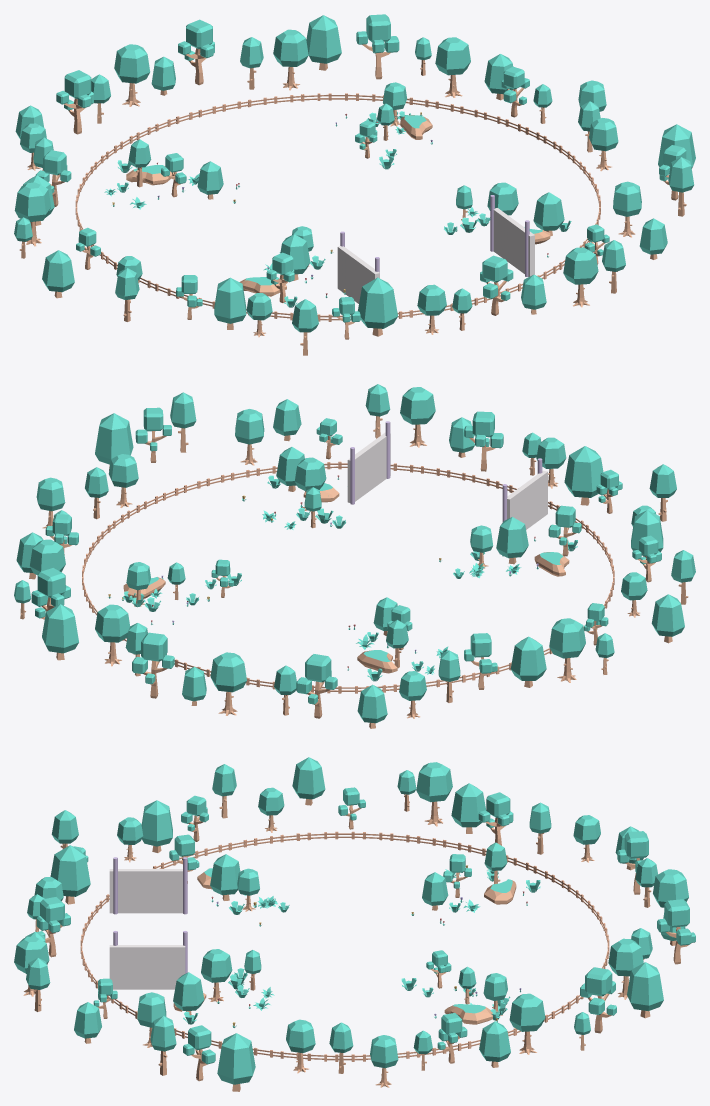
Rendered from zona_naturaleza.glb.
3 views of the same model, one above another, from view 1: azimuth 30°, elevation 25°; view 2: azimuth 150°, elevation 25°; view 3: azimuth 270°, elevation 25° (orthographic).
Parts seen in each view (by area): view 1: Mesh_tree_fat (×12), Mesh_tree_oak (×13), Mesh_tree_detailed (×8), Zona_naturaleza, Mesh_tree_default_1 (×5); view 2: Mesh_tree_fat (×13), Mesh_tree_oak (×14), Mesh_tree_detailed (×10), Mesh_tree_default_1 (×7), Zona_naturaleza; view 3: Mesh_tree_fat (×11), Mesh_tree_oak (×15), Mesh_tree_detailed (×10), Zona_naturaleza, Mesh_tree_default_1 (×8), Mesh_rock_largeA.
Boxes of the visible parts, <box> form: Mesh_tree_fat (×12): <box>42,15,695,328</box>; Mesh_tree_oak (×13): <box>14,29,641,320</box>; Mesh_tree_detailed (×8): <box>35,14,529,307</box>; Zona_naturaleza: <box>337,195,534,303</box>; Mesh_tree_default_1 (×5): <box>115,37,694,332</box>; Mesh_tree_fat (×13): <box>16,399,684,723</box>; Mesh_tree_oak (×14): <box>30,387,647,700</box>; Mesh_tree_detailed (×10): <box>31,407,661,704</box>; Mesh_tree_default_1 (×7): <box>85,384,695,694</box>; Zona_naturaleza: <box>347,421,547,529</box>; Mesh_tree_fat (×11): <box>50,757,663,1084</box>; Mesh_tree_oak (×15): <box>14,762,688,1068</box>; Mesh_tree_detailed (×10): <box>36,792,695,1064</box>; Zona_naturaleza: <box>109,857,187,989</box>; Mesh_tree_default_1 (×8): <box>26,764,657,1052</box>; Mesh_rock_largeA: <box>444,1005,492,1024</box>.
Bounding box in the file's own units: 246 × 22.97 × 235.
